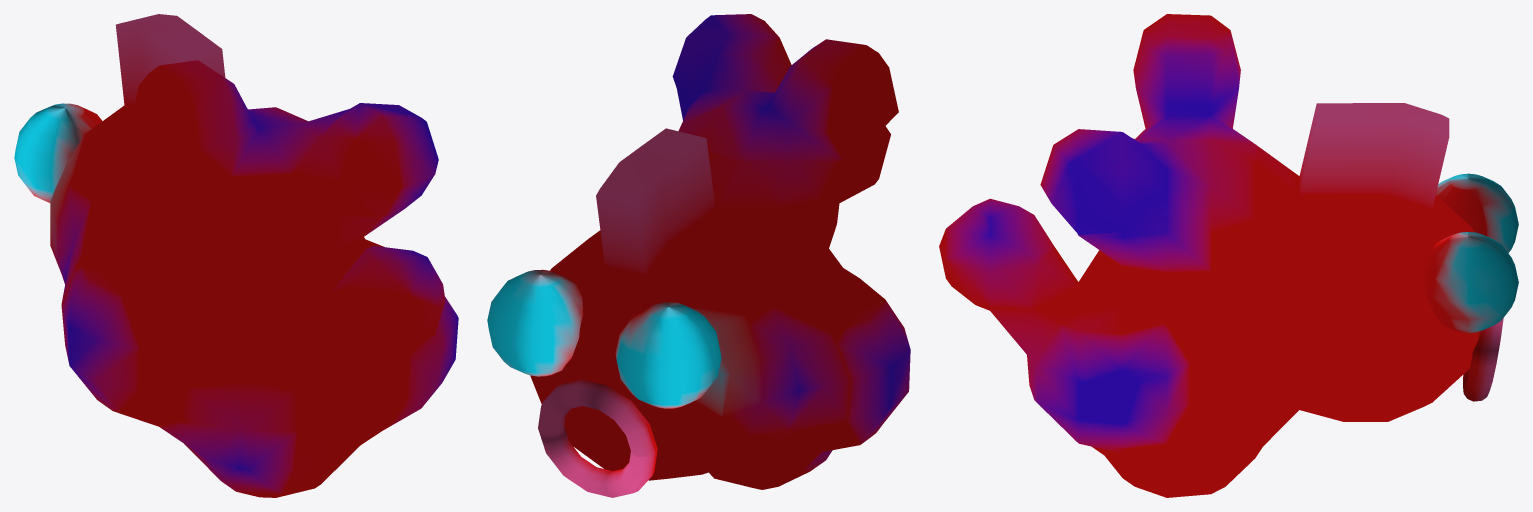
Rendered from fuzzer.glb.
3 renders of one model, left to right at view 1: azimuth 30°, elevation 25°; view 2: azimuth 150°, elevation 25°; view 3: azimuth 270°, elevation 25°, orthographic. The views are drawn at different scales.
Parts seen in each view (by area): view 1: Sphere001; view 2: Sphere001; view 3: Sphere001.
Boxes of the visible parts, box(x1,y1,x2,y2) form: Sphere001: box(14, 14, 458, 497); Sphere001: box(487, 14, 910, 497); Sphere001: box(939, 14, 1518, 497).
Size of the model in its own units: 0.8366 by 1.14 by 1.4.
